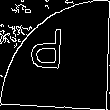P_S: (35, 29, 75, 81)
